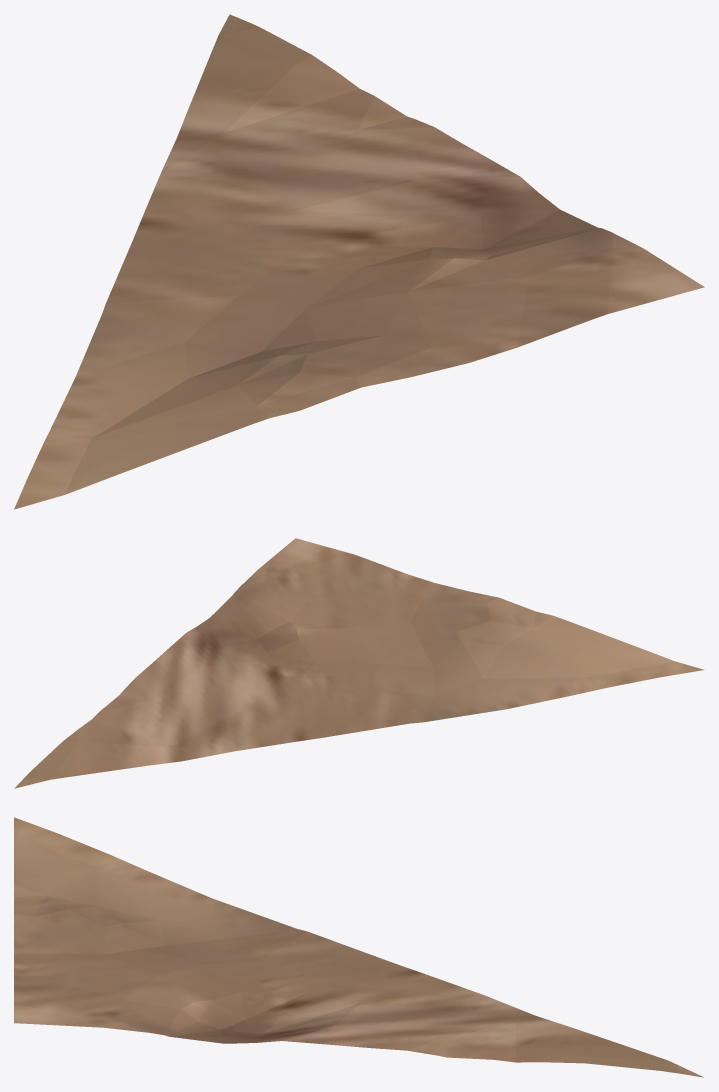
3 renders of one model, top to bottom at view 1: azimuth 30°, elevation 25°; view 2: azimuth 150°, elevation 25°; view 3: azimuth 270°, elevation 25°, orthographic. The views are drawn at different scales.
Size of the model in its own units: 1.42 by 0.147 by 1.69.
1 material, 1 textured.
